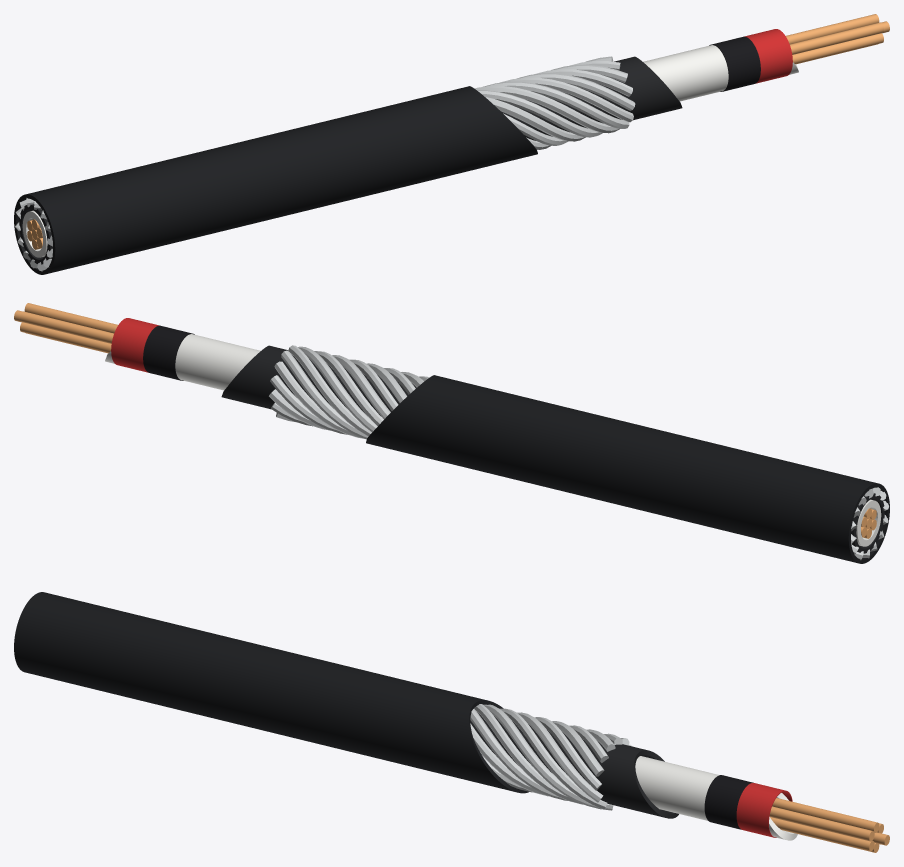
File: cable.glb
The picture shows the model from 3 angles, top to bottom: view 1: azimuth 30°, elevation 25°; view 2: azimuth 150°, elevation 25°; view 3: azimuth 330°, elevation 25°; orthographic projection.
Visible parts, largest first — view 1: sheath, insulation, bedding, tape_black, tape_red, armour_08, armour_07, armour_09, armour_06, strand_4, armour_05, armour_10 (+5 smaller); view 2: sheath, insulation, bedding, tape_black, tape_red, armour_02, armour_01, strand_2, armour_03, strand_1, strand_3, armour_00 (+5 smaller); view 3: sheath, bedding, insulation, tape_red, tape_black, armour_08, armour_07, armour_09, strand_4, armour_06, armour_10, strand_3 (+4 smaller).
Boxes of the visible parts, <box> form: sheath: <box>14,86,537,274</box>; insulation: <box>22,45,798,257</box>; bedding: <box>19,56,682,264</box>; tape_black: <box>709,36,760,91</box>; tape_red: <box>744,29,792,83</box>; armour_08: <box>40,86,619,219</box>; armour_07: <box>34,81,629,209</box>; armour_09: <box>45,90,602,231</box>; armour_06: <box>26,77,633,207</box>; strand_4: <box>36,22,883,238</box>; armour_05: <box>19,73,635,210</box>; armour_10: <box>47,97,585,246</box>; sheath: <box>366,375,889,563</box>; insulation: <box>105,334,881,546</box>; bedding: <box>221,345,884,553</box>; tape_black: <box>143,325,194,380</box>; tape_red: <box>111,318,159,372</box>; armour_02: <box>288,345,858,555</box>; armour_01: <box>281,350,863,560</box>; strand_2: <box>20,311,867,527</box>; armour_03: <box>298,346,856,543</box>; strand_1: <box>20,322,867,537</box>; strand_3: <box>24,303,871,518</box>; armour_00: <box>274,361,869,558</box>; sheath: <box>14,592,528,793</box>; bedding: <box>470,712,678,818</box>; insulation: <box>635,756,797,840</box>; tape_red: <box>736,783,792,837</box>; tape_black: <box>704,775,753,829</box>; armour_08: <box>483,704,613,810</box>; armour_07: <box>500,708,607,809</box>; armour_09: <box>474,704,583,804</box>; strand_4: <box>769,806,874,841</box>; armour_06: <box>517,712,603,802</box>; armour_10: <box>470,709,567,800</box>; strand_3: <box>772,798,879,832</box>.
Bounding box in the file's own units: 0.1605 × 0.0134 × 0.0134.
